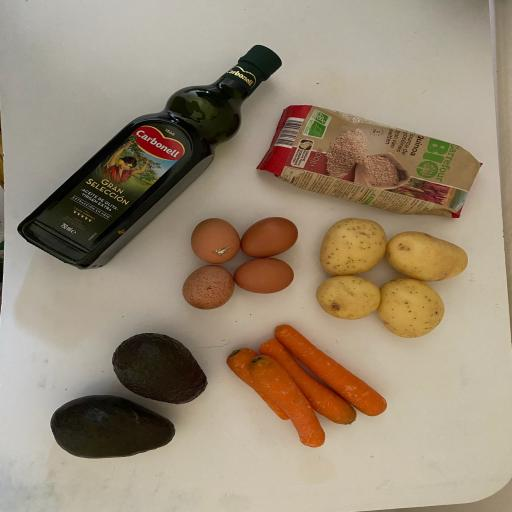avocado: (48, 392, 178, 462), (109, 332, 212, 406)
carrot: (271, 322, 393, 418), (260, 336, 359, 429), (249, 352, 328, 450), (222, 343, 295, 422)
egg: (236, 214, 301, 260), (178, 262, 236, 312), (188, 214, 242, 266), (230, 254, 296, 294)
olive_oil: (11, 42, 287, 272)
potato: (382, 231, 473, 285), (315, 214, 390, 278), (374, 276, 450, 339), (312, 271, 385, 324)
quinoa: (256, 102, 490, 224)
